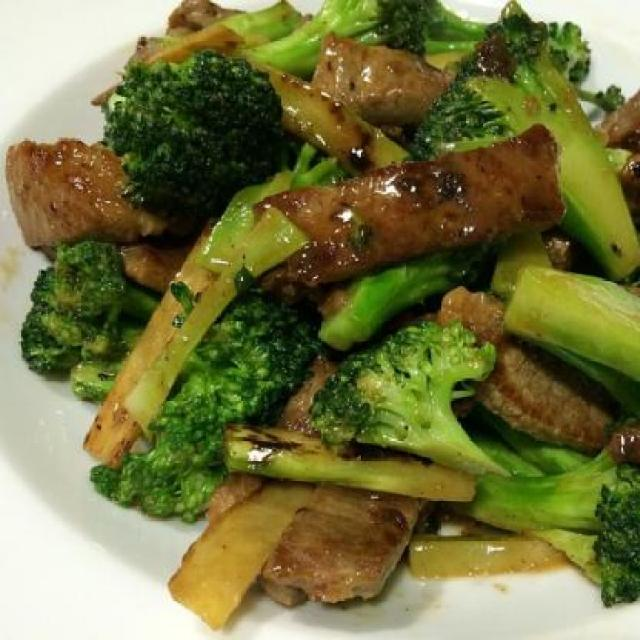Broccoli: (20, 0, 640, 609)
